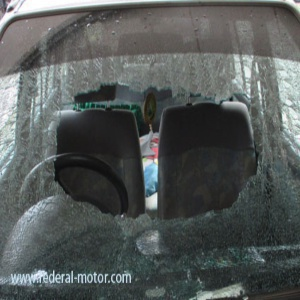front_windshield_glass: (2, 26, 295, 263)
